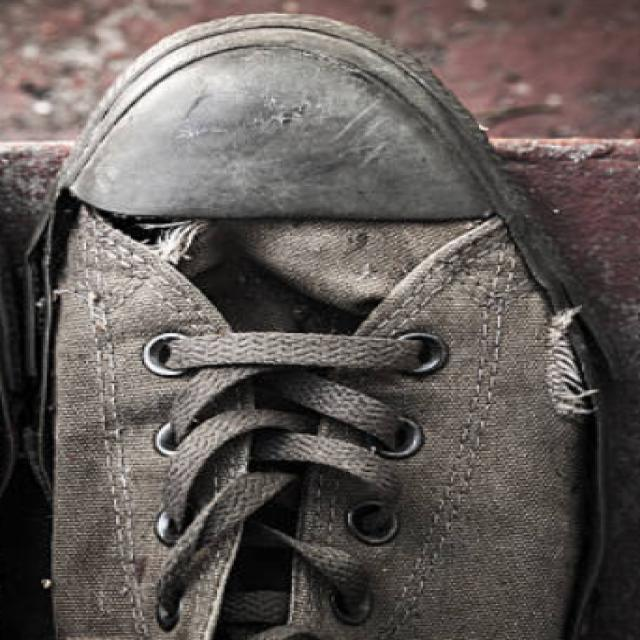bonding: (23, 186, 97, 481), (565, 395, 617, 633)
